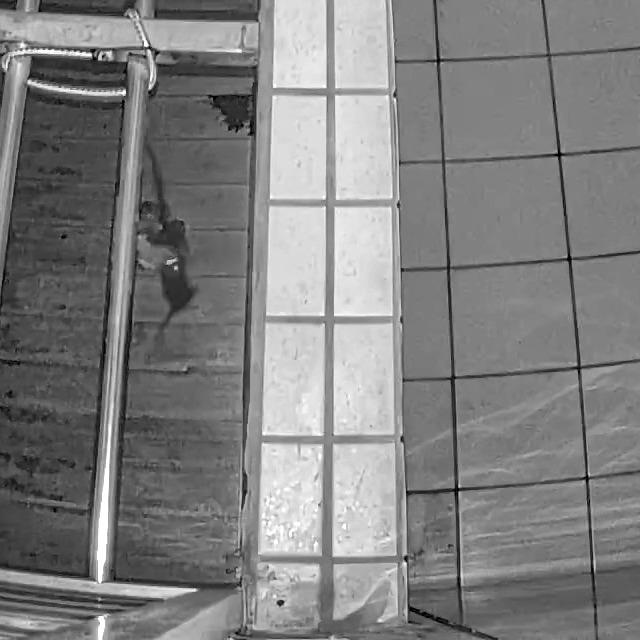rat: (153, 253, 199, 344)
